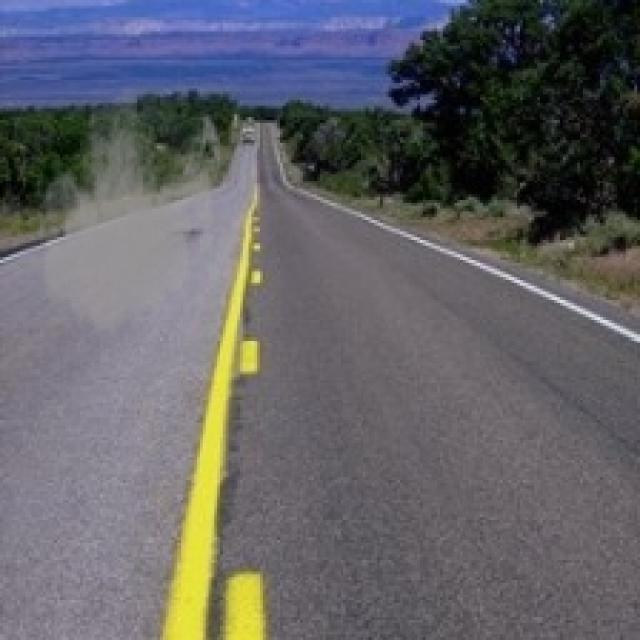smoke: (23, 77, 226, 346)
